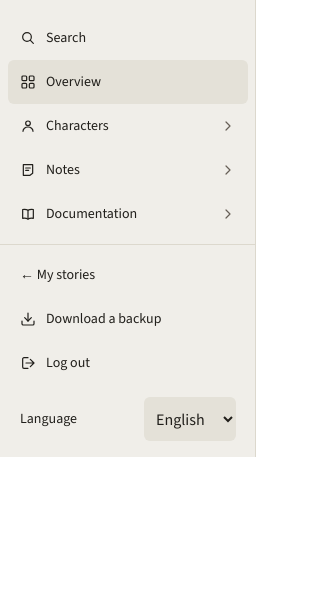
Test: StoryNavDrawer › foldable entry sections › unfolds the section's entries, sorted, instead of navigating
The image size is (320, 606).
Click the button with test id "story-nav-characters" at (128, 126), box [8, 104, 248, 148]
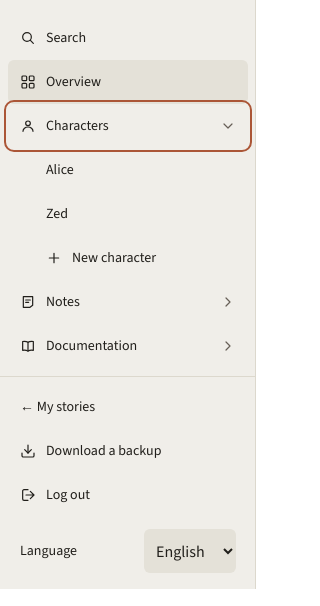
Expected: the button with test id "story-nav-characters" is expanded, [8, 104, 248, 148]
Expected: the elements with test id "story-nav-entry" read "Alice", "Zed", in this order, [46, 160, 74, 179]; [46, 204, 68, 223]
